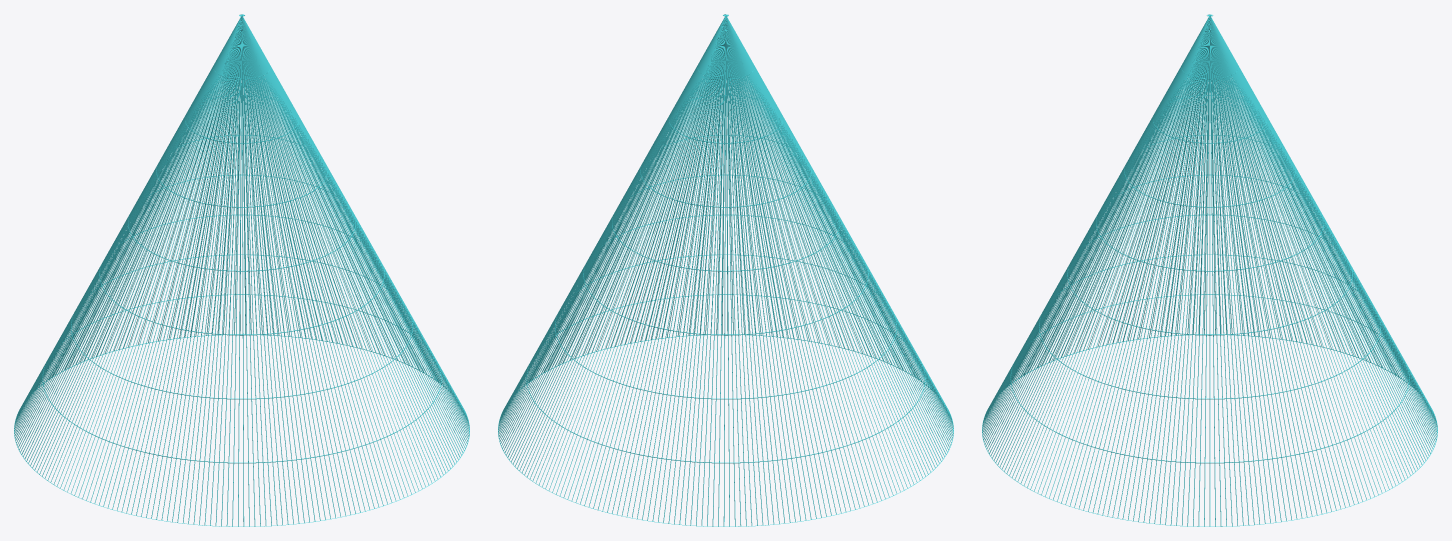
3 renders of one model, left to right at view 1: azimuth 30°, elevation 25°; view 2: azimuth 150°, elevation 25°; view 3: azimuth 270°, elevation 25°, orthographic.
Parts seen in each view (by area): view 1: Cylinder.001; view 2: Cylinder.001; view 3: Cylinder.001.
Boxes of the visible parts, left/top/right/bottom form: Cylinder.001: left=14, top=14, right=469, bottom=526; Cylinder.001: left=498, top=14, right=953, bottom=526; Cylinder.001: left=982, top=14, right=1437, bottom=526.
Size of the model in its own units: 199 by 200 by 199.
